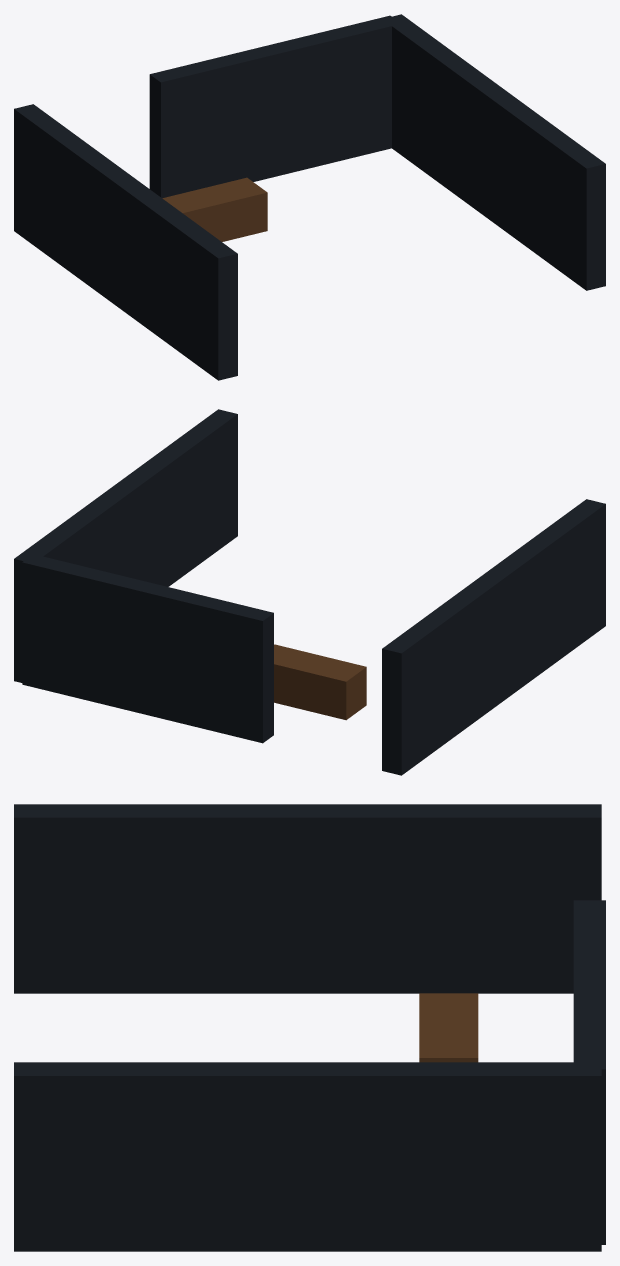
Rendered from module.side_room_loop.glb.
3 renders of one model, top to bottom at view 1: azimuth 30°, elevation 25°; view 2: azimuth 150°, elevation 25°; view 3: azimuth 270°, elevation 25°, orthographic. The views are drawn at different scales.
Visible parts, largest first — view 1: back_lip, side_left_wall, side_right_wall, low_cover; view 2: back_lip, side_left_wall, side_right_wall, low_cover; view 3: side_right_wall, side_left_wall, back_lip, low_cover.
Boxes of the visible parts, x1=… form: back_lip: x1=149, y1=15, x2=398, y2=198; side_left_wall: x1=14, y1=104, x2=237, y2=380; side_right_wall: x1=382, y1=14, x2=605, y2=290; low_cover: x1=162, y1=177, x2=267, y2=241; back_lip: x1=22, y1=554, x2=273, y2=743; side_left_wall: x1=382, y1=499, x2=605, y2=775; side_right_wall: x1=14, y1=409, x2=237, y2=682; low_cover: x1=274, y1=644, x2=366, y2=720; side_right_wall: x1=14, y1=1062, x2=601, y2=1251; side_left_wall: x1=14, y1=804, x2=601, y2=993; back_lip: x1=573, y1=900, x2=605, y2=1244; low_cover: x1=419, y1=993, x2=478, y2=1062.
Bounding box in the file's own units: 10.95 × 3.3 × 10.08.
